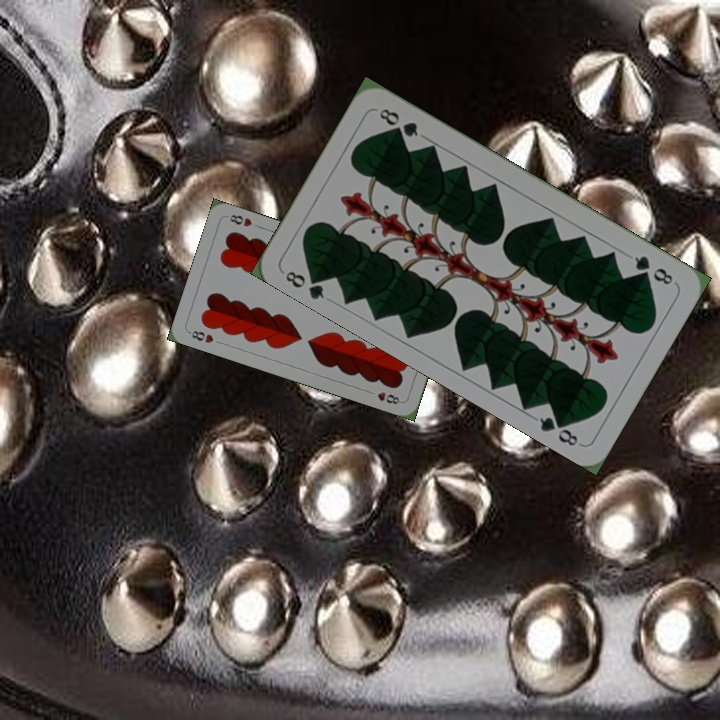G8: (281, 266, 328, 303), (630, 251, 676, 288)
H8: (185, 326, 216, 346)
